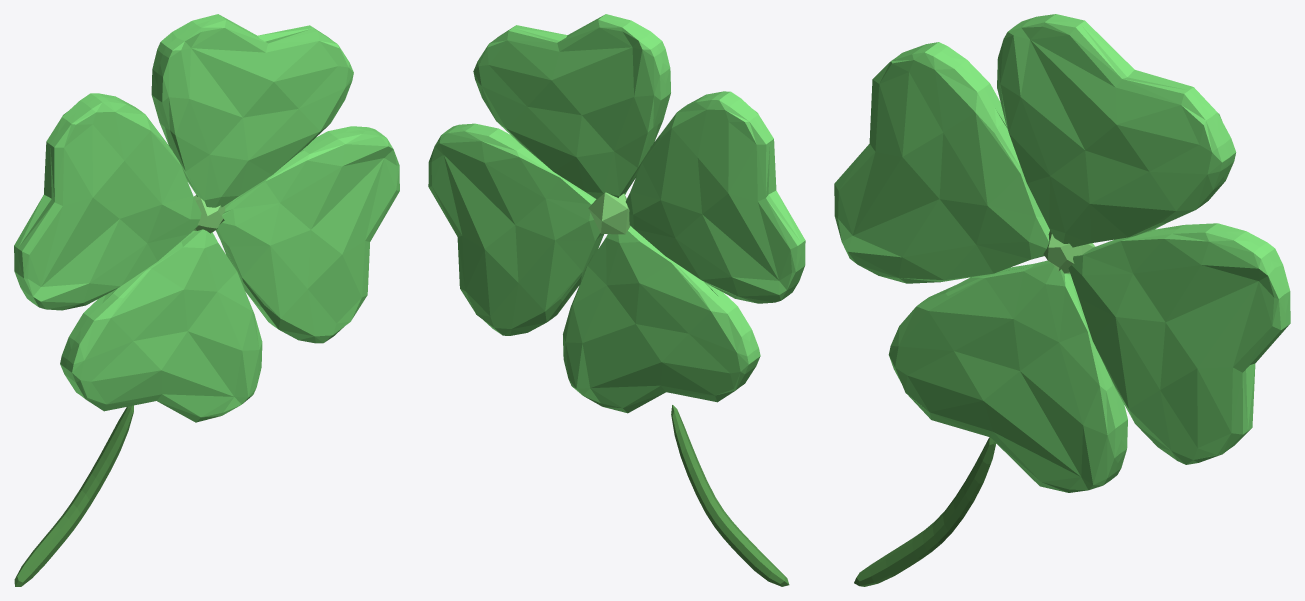
Rendered from StarCoin_Get.glb.
3 renders of one model, left to right at view 1: azimuth 30°, elevation 25°; view 2: azimuth 150°, elevation 25°; view 3: azimuth 330°, elevation 25°, orthographic. The views are drawn at different scales.
Visible parts, largest first — view 1: Clover_Dark; view 2: Clover_Dark; view 3: Clover_Dark.
Part boxes in pixels (x1,y1,x2,y2): Clover_Dark: [14, 14, 399, 586]; Clover_Dark: [428, 14, 805, 586]; Clover_Dark: [834, 14, 1290, 586].
Size of the model in its own units: 4.55 by 6.08 by 0.5828.
